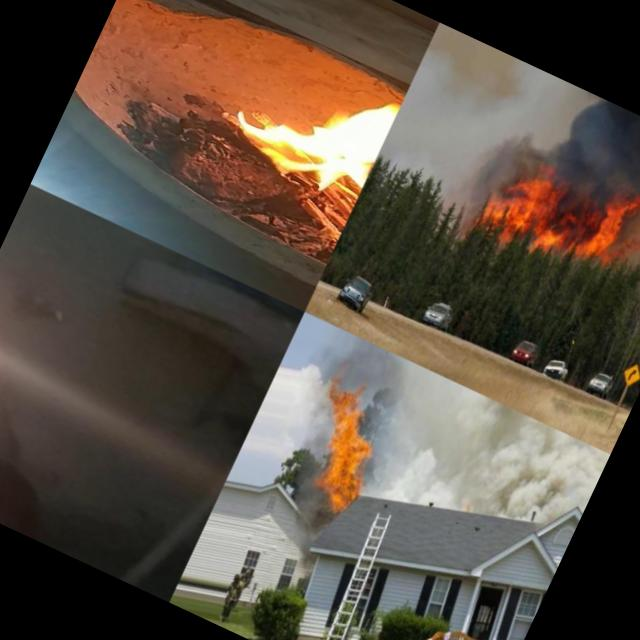fire: (212, 58, 396, 248), (476, 136, 640, 288), (288, 382, 396, 514), (0, 274, 53, 458)
smoke: (388, 370, 610, 534), (525, 79, 640, 240), (463, 111, 556, 210)
